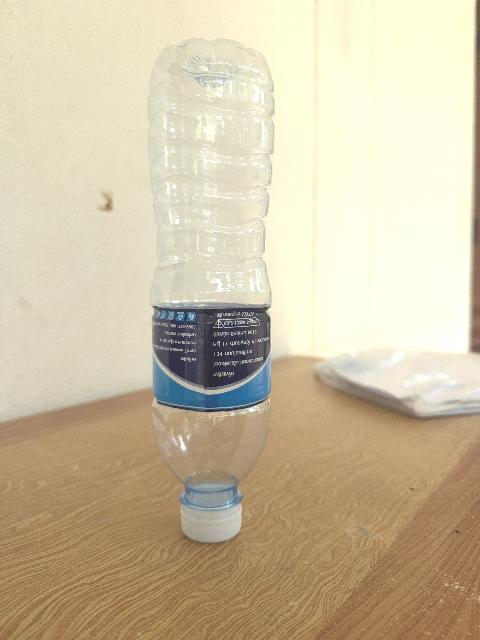bottle: (148, 39, 272, 542)
